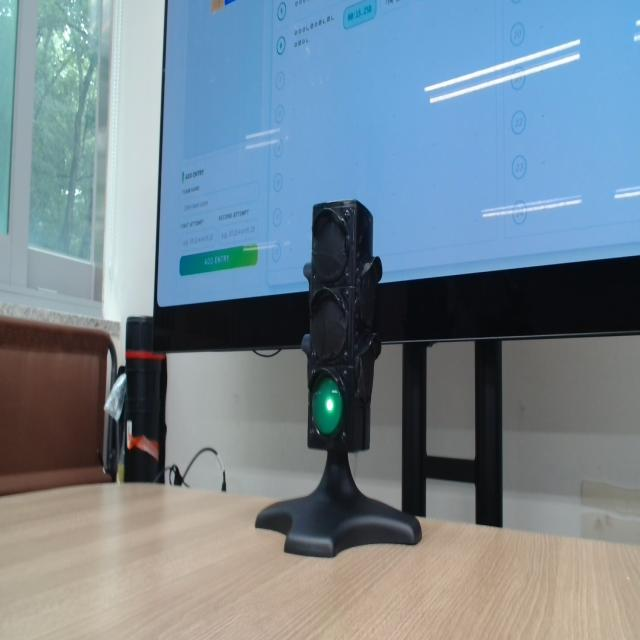green_light: (312, 377, 342, 437)
